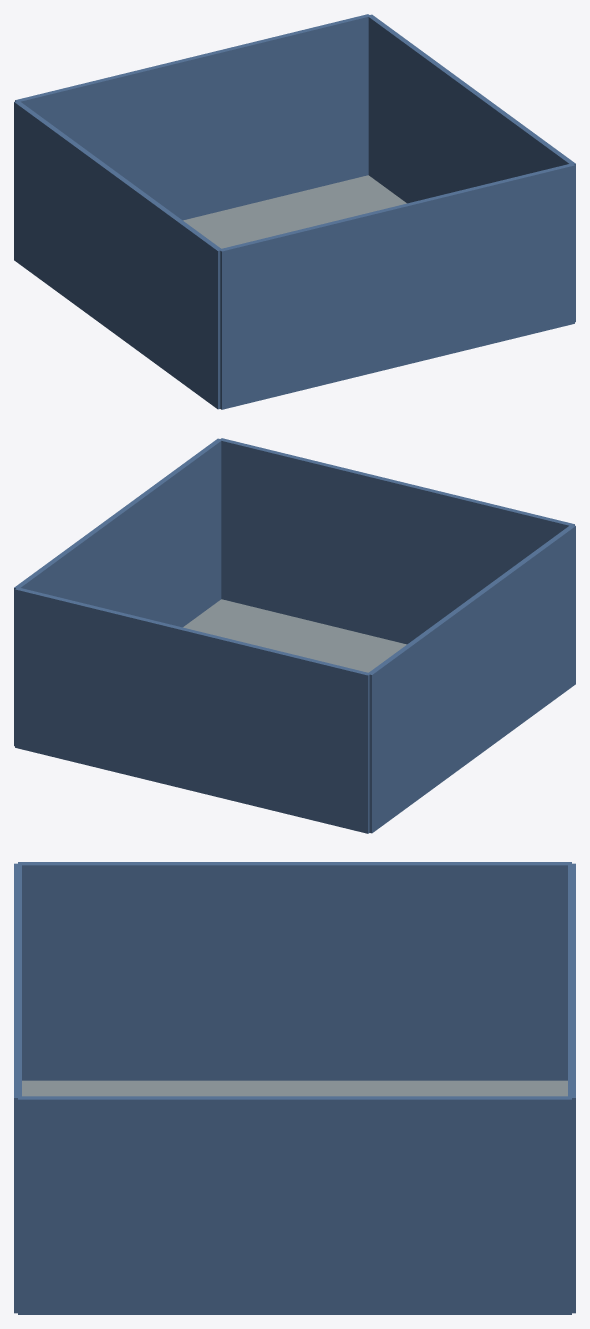
Rendered from floorPlan1.obj.
3 renders of one model, top to bottom at view 1: azimuth 30°, elevation 25°; view 2: azimuth 150°, elevation 25°; view 3: azimuth 270°, elevation 25°, orthographic. The views are drawn at different scales.
Visible parts, largest first — view 1: Cube_Cube.001, Cube.001_Cube.002, Cube.003_Cube.004, Cube.002_Cube.003, Plane; view 2: Cube.001_Cube.002, Cube_Cube.001, Cube.003_Cube.004, Cube.002_Cube.003, Plane; view 3: Cube.002_Cube.003, Cube.003_Cube.004, Plane, Cube_Cube.001, Cube.001_Cube.002.
Boxes of the visible parts, left/top/right/bottom form: Cube_Cube.001: left=219, top=163, right=574, bottom=409; Cube.001_Cube.002: left=15, top=14, right=370, bottom=220; Cube.003_Cube.004: left=14, top=101, right=220, bottom=409; Cube.002_Cube.003: left=368, top=14, right=575, bottom=322; Plane: left=183, top=175, right=406, bottom=248; Cube.001_Cube.002: left=15, top=587, right=370, bottom=833; Cube_Cube.001: left=219, top=438, right=574, bottom=644; Cube.003_Cube.004: left=369, top=525, right=575, bottom=833; Cube.002_Cube.003: left=14, top=438, right=221, bottom=746; Plane: left=183, top=599, right=406, bottom=672; Cube.002_Cube.003: left=18, top=1096, right=571, bottom=1314; Cube.003_Cube.004: left=18, top=862, right=571, bottom=1080; Plane: left=22, top=1080, right=567, bottom=1096; Cube_Cube.001: left=14, top=863, right=21, bottom=1313; Cube.001_Cube.002: left=568, top=863, right=575, bottom=1313.
Bounding box in the file's own units: 14.2 × 6 × 14.2.
